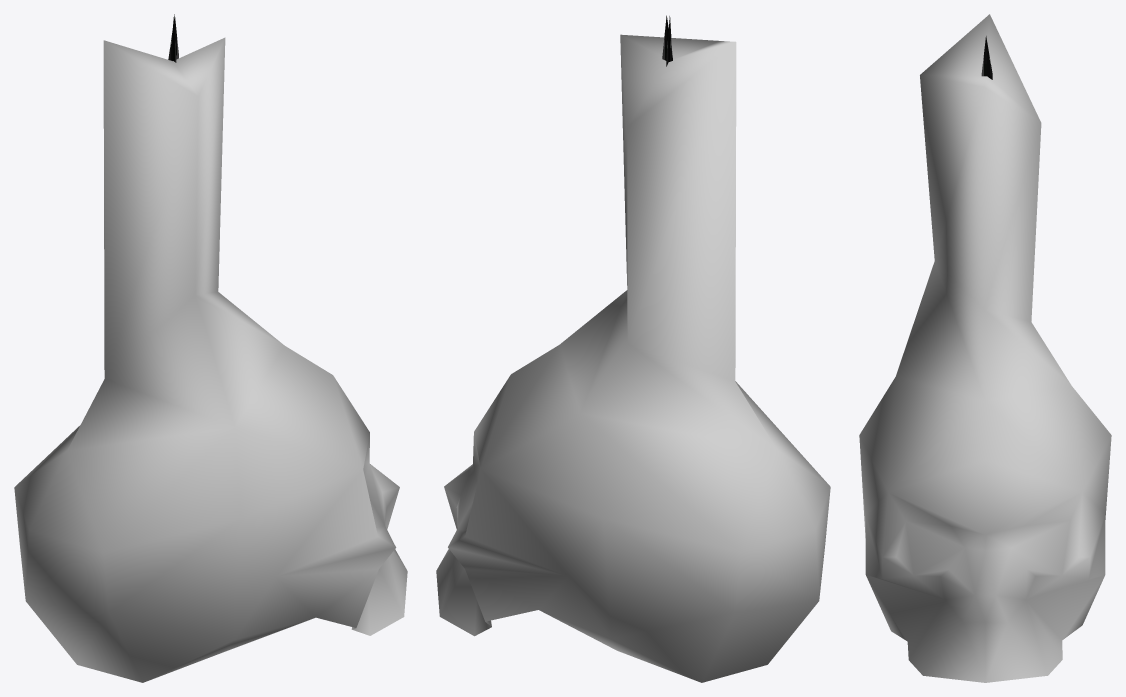
Rendered from skullcandle01.obj.
3 views of the same model, side by side, from view 1: azimuth 30°, elevation 25°; view 2: azimuth 150°, elevation 25°; view 3: azimuth 270°, elevation 25° (orthographic). The views are drawn at different scales.
Parts seen in each view (by area): view 1: Geoset0; view 2: Geoset0; view 3: Geoset0.
Part boxes in pixels (<box>): Geoset0: <box>14,37,407,682</box>; Geoset0: <box>436,34,830,682</box>; Geoset0: <box>859,14,1111,682</box>.
Size of the model in its own units: 0.3658 by 0.5732 by 0.2346.
